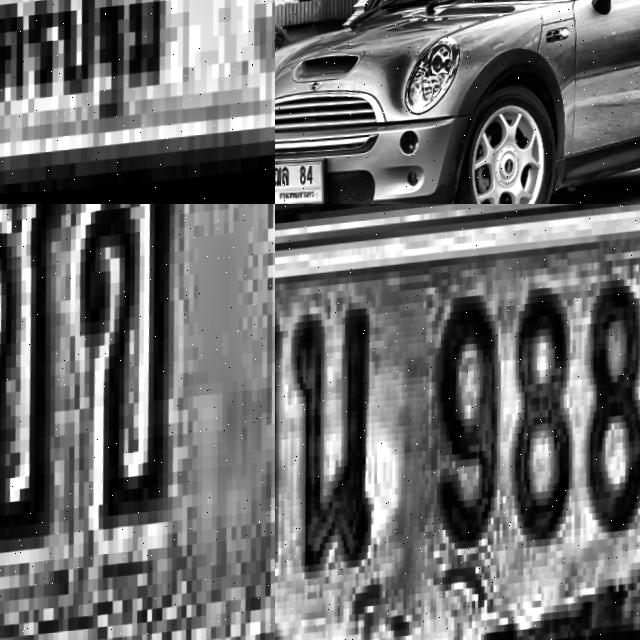license-plate: (275, 204, 640, 640), (0, 204, 275, 640), (0, 0, 275, 204), (275, 153, 336, 204)
